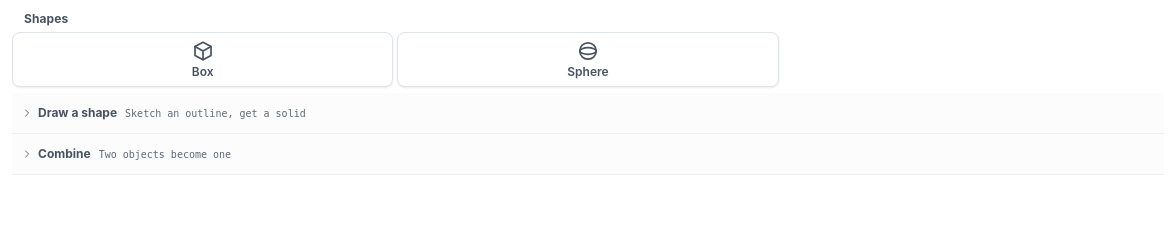
a refusal is explained inline and changes no selection
This screenshot has width=1176, height=229.
Click the button with test id "shape-card-box": click(203, 60) [12,32,393,87]
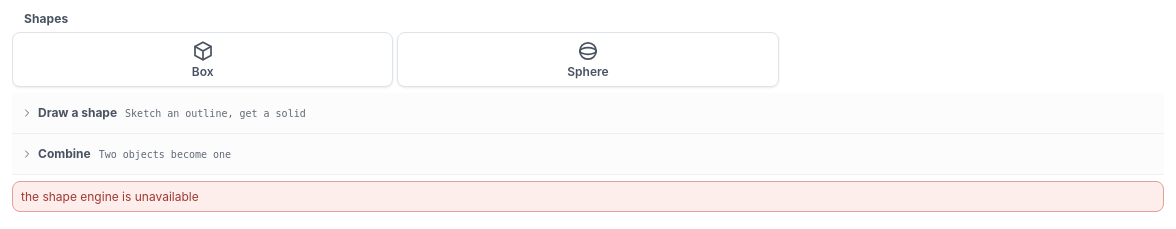
Check: the message with test id "shape-refusal" reads "the shape engine is unavailable", box [21,189,199,204]
